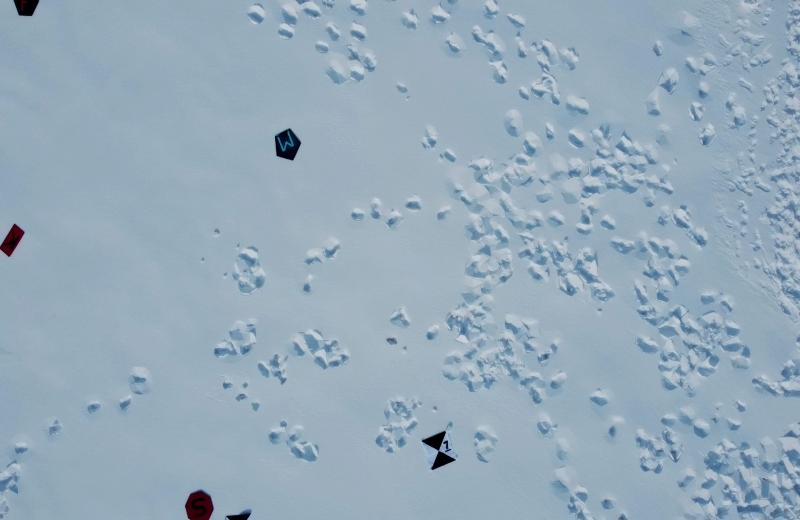Hexagon: (11, 0, 43, 24)
Octagon: (183, 487, 215, 520)
Pentagon: (272, 128, 306, 166)
Rectangle: (0, 222, 29, 261)
